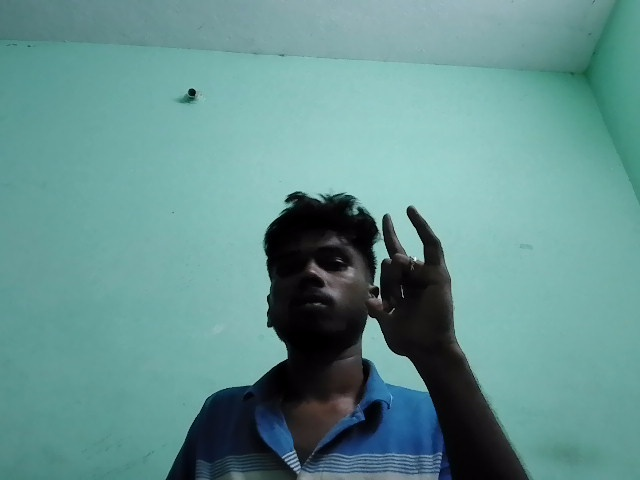I Love You: (338, 195, 527, 375)
